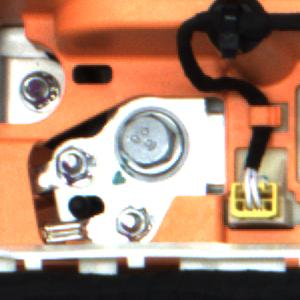nut_b: (112, 102, 192, 182)
screw_s: (114, 203, 158, 245), (51, 142, 92, 185), (25, 73, 54, 110)
